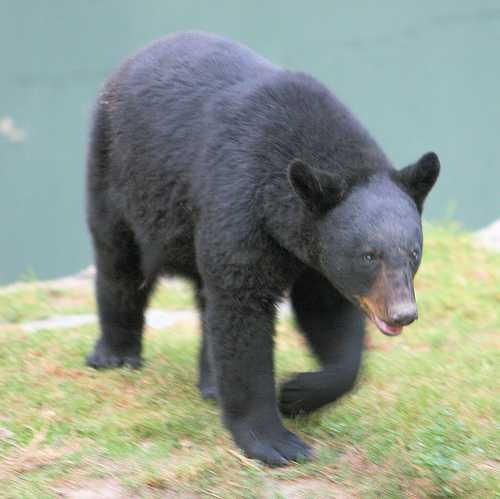bear: (267, 137, 463, 349)
